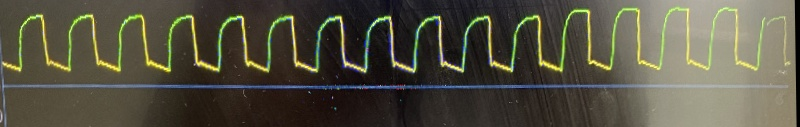normal_pressure: (0, 7, 768, 83)
